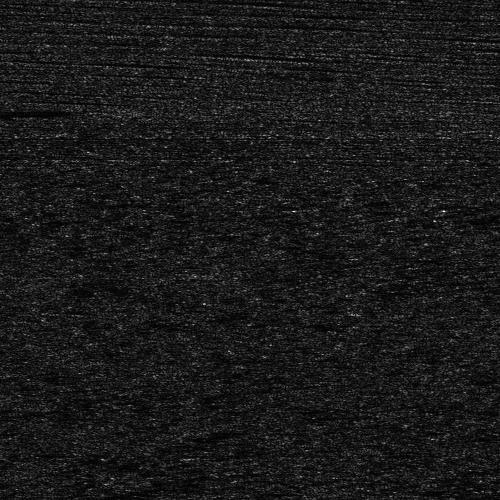object: (0, 104, 7, 115)
shadow: (0, 104, 101, 115)
